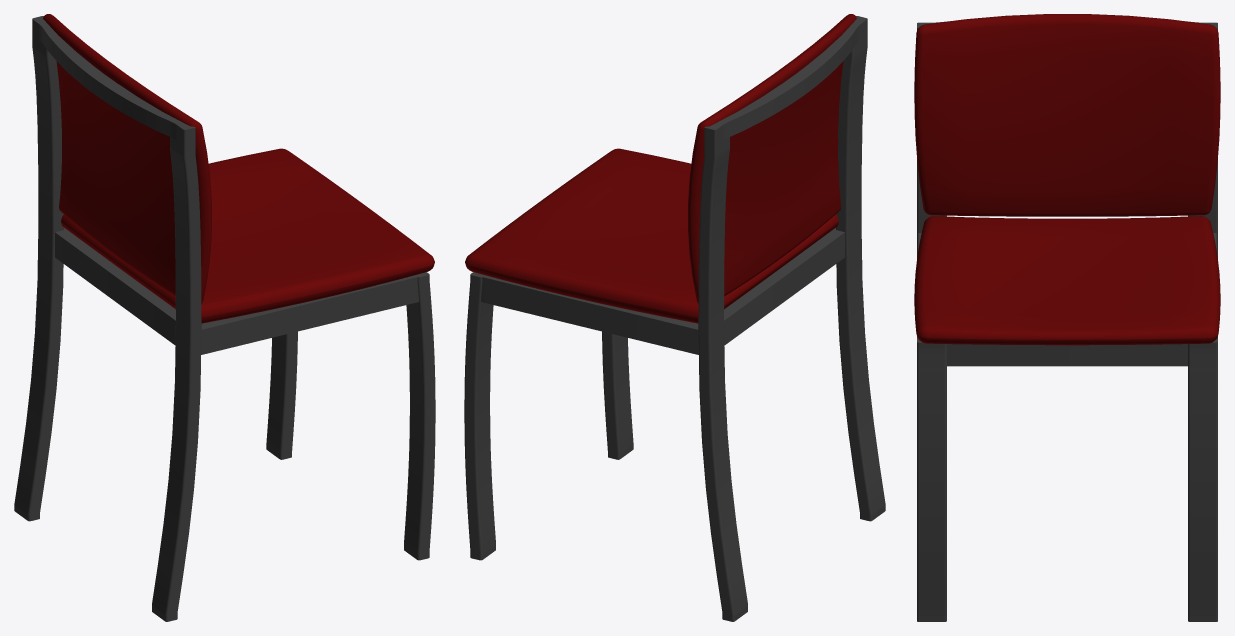
Rendered from sedia.obj.
The picture shows the model from 3 angles, left to right: view 1: azimuth 30°, elevation 25°; view 2: azimuth 150°, elevation 25°; view 3: azimuth 270°, elevation 25°; orthographic projection.
Parts seen in each view (by area): view 1: ChamferBox07_7, ChamferBox08_8, Loft14_2, Loft03_1, Line65_5, Loft15_4, Rectangle16_6, Loft04_3; view 2: ChamferBox07_7, ChamferBox08_8, Loft03_1, Loft14_2, Line65_5, Loft04_3, Rectangle16_6, Loft15_4; view 3: ChamferBox08_8, ChamferBox07_7, Loft04_3, Loft15_4, Line65_5, Loft03_1, Loft14_2.
Part boxes in pixels (left/top/right/bottom): ChamferBox07_7: left=61, top=148, right=434, bottom=323; ChamferBox08_8: left=43, top=14, right=211, bottom=303; Loft14_2: left=152, top=137, right=201, bottom=621; Loft03_1: left=14, top=35, right=63, bottom=521; Line65_5: left=55, top=228, right=425, bottom=354; Loft15_4: left=404, top=272, right=435, bottom=560; Rectangle16_6: left=32, top=16, right=195, bottom=145; Loft04_3: left=266, top=331, right=297, bottom=459; ChamferBox07_7: left=465, top=148, right=838, bottom=323; ChamferBox08_8: left=688, top=14, right=856, bottom=303; Loft03_1: left=698, top=137, right=747, bottom=621; Loft14_2: left=836, top=35, right=885, bottom=521; Line65_5: left=475, top=228, right=844, bottom=354; Loft04_3: left=464, top=272, right=495, bottom=560; Rectangle16_6: left=704, top=16, right=867, bottom=145; Loft15_4: left=602, top=331, right=633, bottom=459; ChamferBox08_8: left=914, top=14, right=1220, bottom=216; ChamferBox07_7: left=914, top=216, right=1220, bottom=345; Loft04_3: left=1188, top=337, right=1217, bottom=621; Loft15_4: left=917, top=337, right=946, bottom=621; Line65_5: left=918, top=233, right=1216, bottom=366; Loft03_1: left=1188, top=160, right=1217, bottom=336; Loft14_2: left=917, top=160, right=946, bottom=336.
Size of the model in its own units: 45.81 by 78.98 by 44.73.
